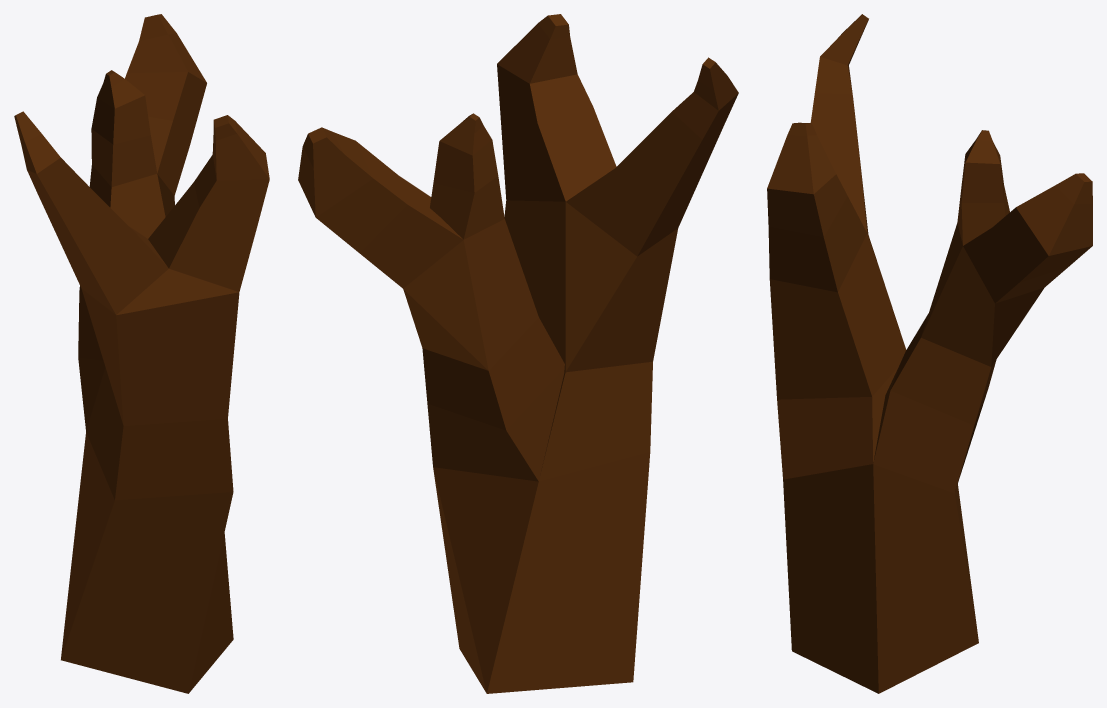
File: Bush_4_tot.fbx
3 views of the same model, side by side, from view 1: azimuth 30°, elevation 25°; view 2: azimuth 150°, elevation 25°; view 3: azimuth 270°, elevation 25° (orthographic). The views are drawn at different scales.
Visible parts, largest first — view 1: Stump; view 2: Stump; view 3: Stump.
Part boxes in pixels (x1,y1,x2,y2): Stump: [14, 14, 269, 693]; Stump: [298, 14, 738, 693]; Stump: [767, 14, 1092, 693].
Bounding box in the file's own units: 37.6 × 73.44 × 37.76.
